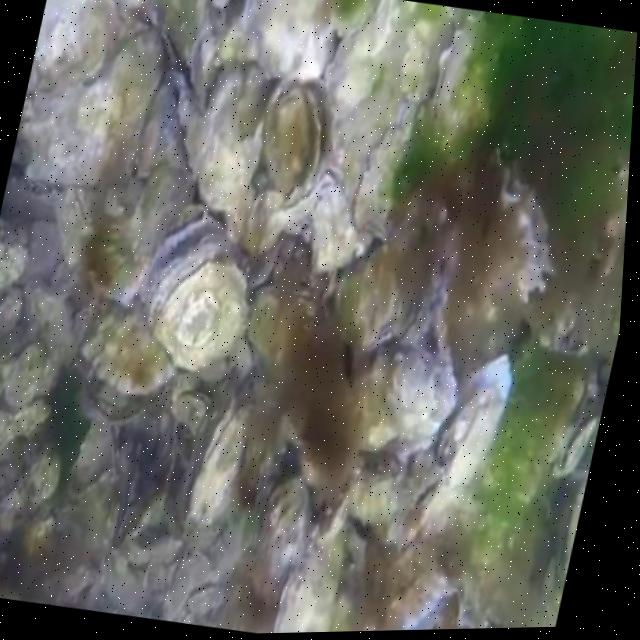Oyster-Closed: (260, 166, 369, 272), (352, 102, 424, 241), (337, 251, 421, 344), (242, 0, 334, 79), (193, 400, 250, 518), (375, 538, 444, 631), (434, 20, 478, 139), (350, 473, 420, 546), (128, 10, 185, 73), (555, 409, 599, 476), (558, 479, 587, 578), (446, 570, 484, 629), (174, 389, 211, 433)
Oyster-Indeterminate: (348, 347, 458, 454), (58, 177, 146, 301), (325, 0, 394, 115), (251, 475, 311, 600), (403, 17, 453, 106), (26, 279, 74, 358), (4, 342, 57, 402), (23, 440, 59, 499), (331, 0, 377, 36), (0, 289, 23, 337)
Oyster-Open: (395, 358, 510, 538), (145, 216, 250, 371), (82, 292, 174, 421), (483, 160, 548, 320), (274, 521, 348, 633), (263, 76, 335, 188), (410, 450, 444, 505)
